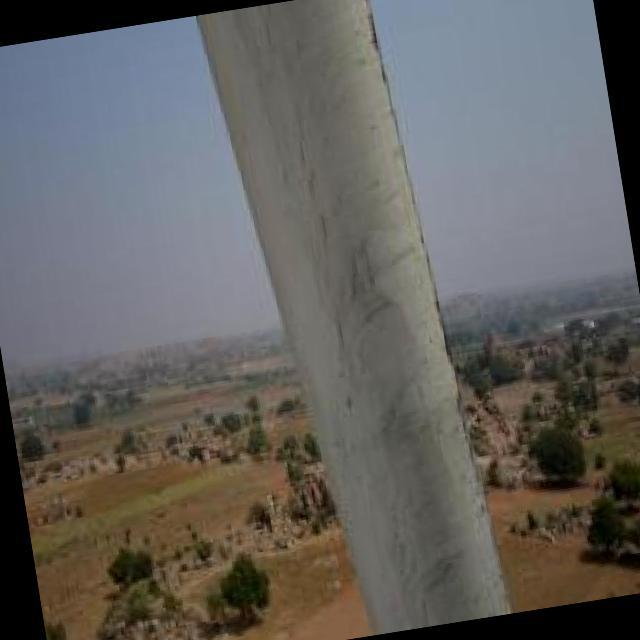Dirt: (273, 20, 516, 612)
